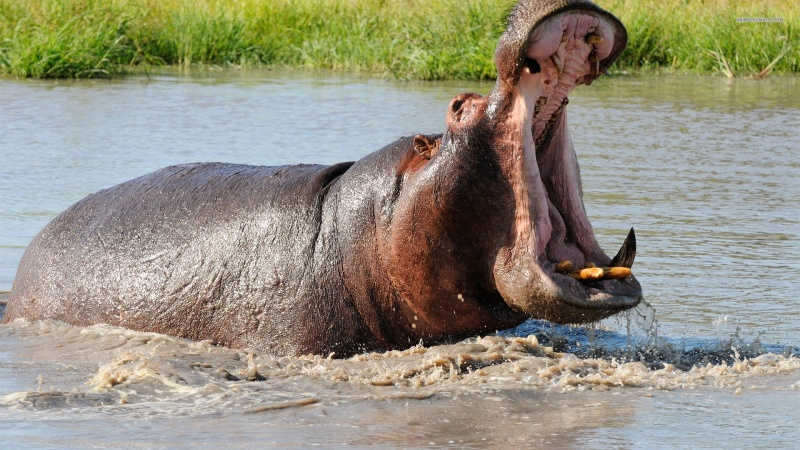hipopotamo: (0, 1, 644, 358)
